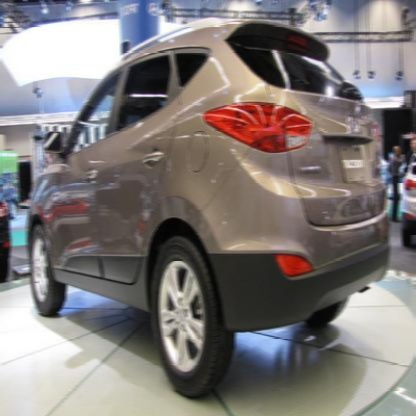Vehicle: (26, 17, 395, 395)
